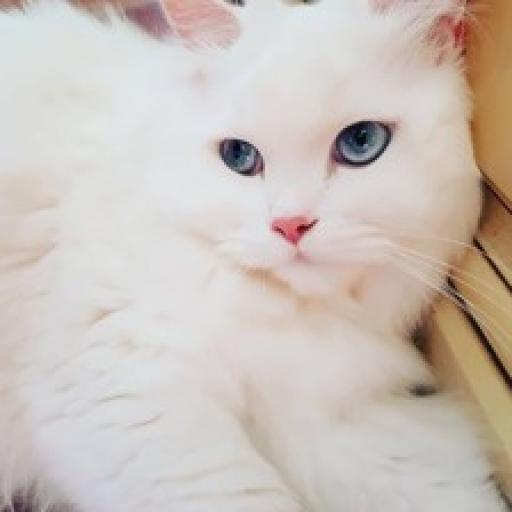cat: (0, 2, 510, 512)
